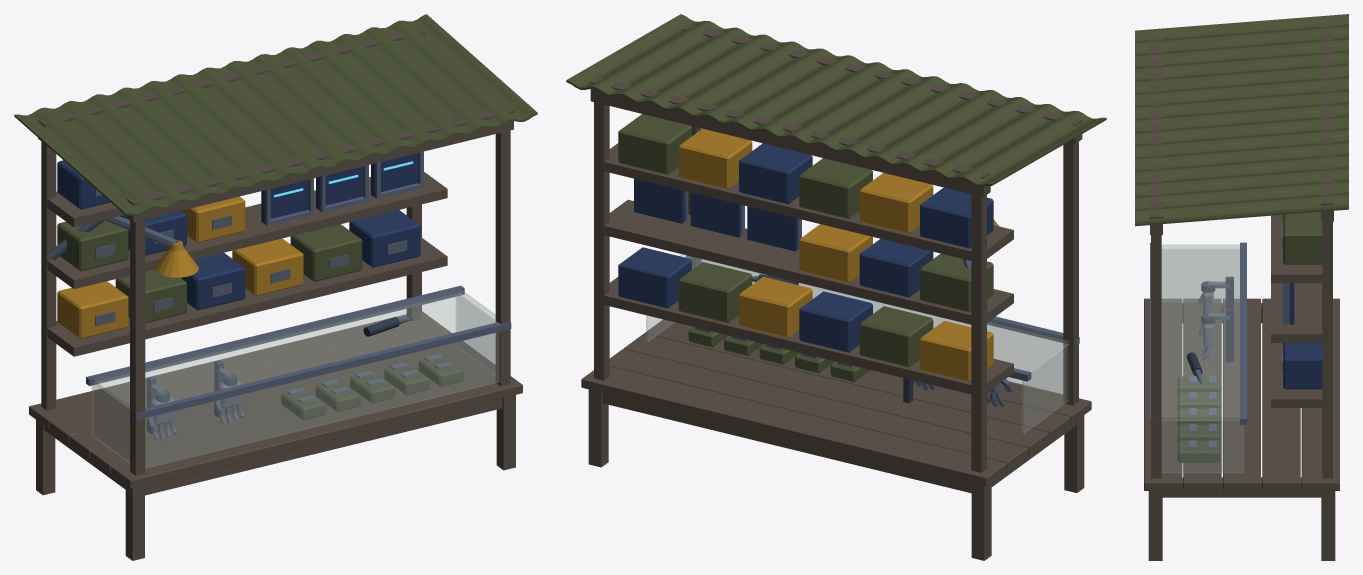
File: bw_targ_parts_stall.glb
3 renders of one model, left to right at view 1: azimuth 30°, elevation 25°; view 2: azimuth 150°, elevation 25°; view 3: azimuth 270°, elevation 25°, orthographic. The views are drawn at different scales.
Parts seen in each view (by area): view 1: apron.001, apron.006, apron.003, apron.002, apron.009, apron.008, apron.007, apron.005, apron.004; view 2: apron.001, apron.006, apron.009, apron.008, apron.003, apron.002; view 3: apron.006, apron.001, apron.003, apron.002, apron.009, apron.004, apron.005.
Part boxes in pixels (x1,y1,x2,y2): apron.001: (29, 27, 522, 560); apron.006: (14, 14, 537, 420); apron.003: (92, 289, 500, 468); apron.002: (48, 151, 511, 440); apron.009: (57, 153, 420, 310); apron.008: (57, 196, 303, 338); apron.007: (95, 189, 407, 326); apron.005: (151, 354, 453, 424); apron.004: (147, 317, 399, 433); apron.001: (581, 24, 1091, 560); apron.006: (566, 14, 1106, 381); apron.009: (618, 143, 993, 352); apron.008: (678, 128, 998, 381); apron.003: (646, 254, 1068, 433); apron.002: (684, 191, 1079, 406); apron.006: (1135, 14, 1348, 462); apron.001: (1144, 25, 1339, 560); apron.003: (1161, 244, 1243, 472); apron.002: (1150, 242, 1289, 424); apron.009: (1283, 283, 1322, 389); apron.004: (1187, 276, 1233, 375); apron.005: (1189, 292, 1216, 449).
Size of the model in its own units: 3 by 2.6 by 1.4.
